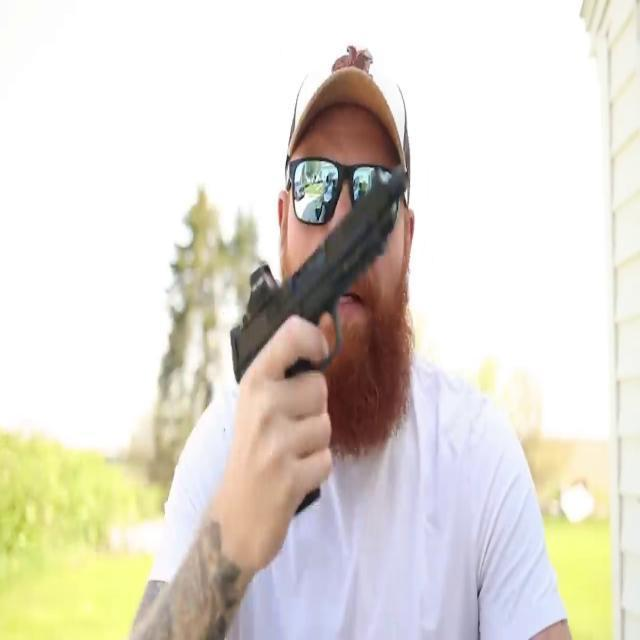Handgun: (226, 155, 413, 540)
